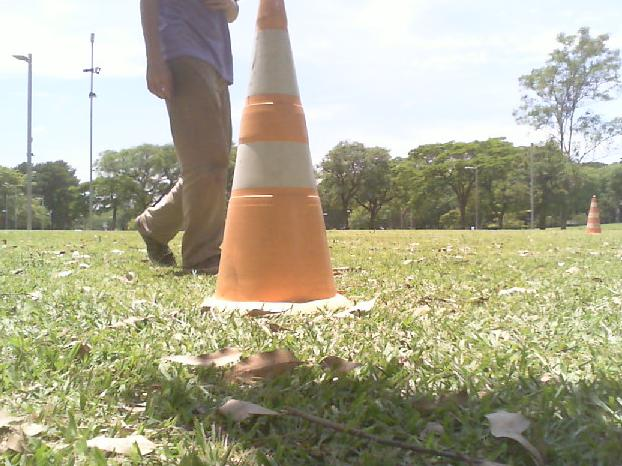0 cone: (199, 0, 351, 312), (581, 194, 603, 235)
